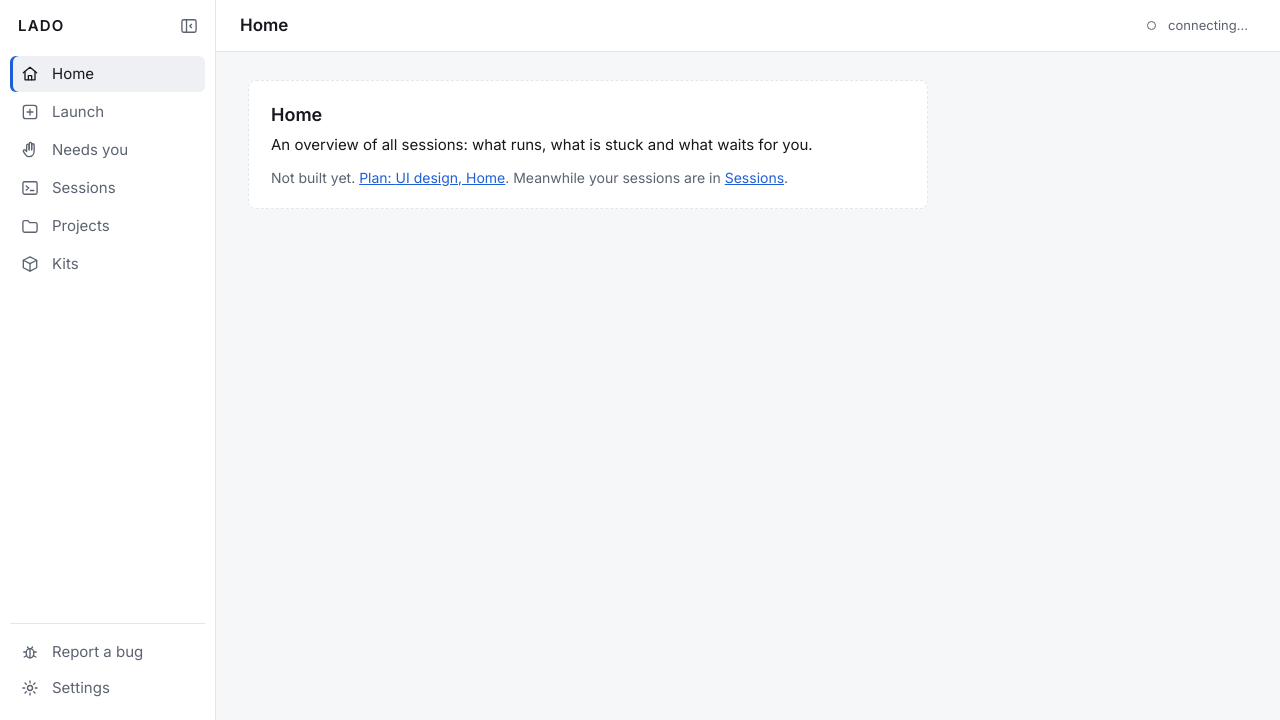
Test: Launch is on the rail and Escape closes its window
Step 1. Click the button "Launch" → (108, 112), box [10,94,205,130]
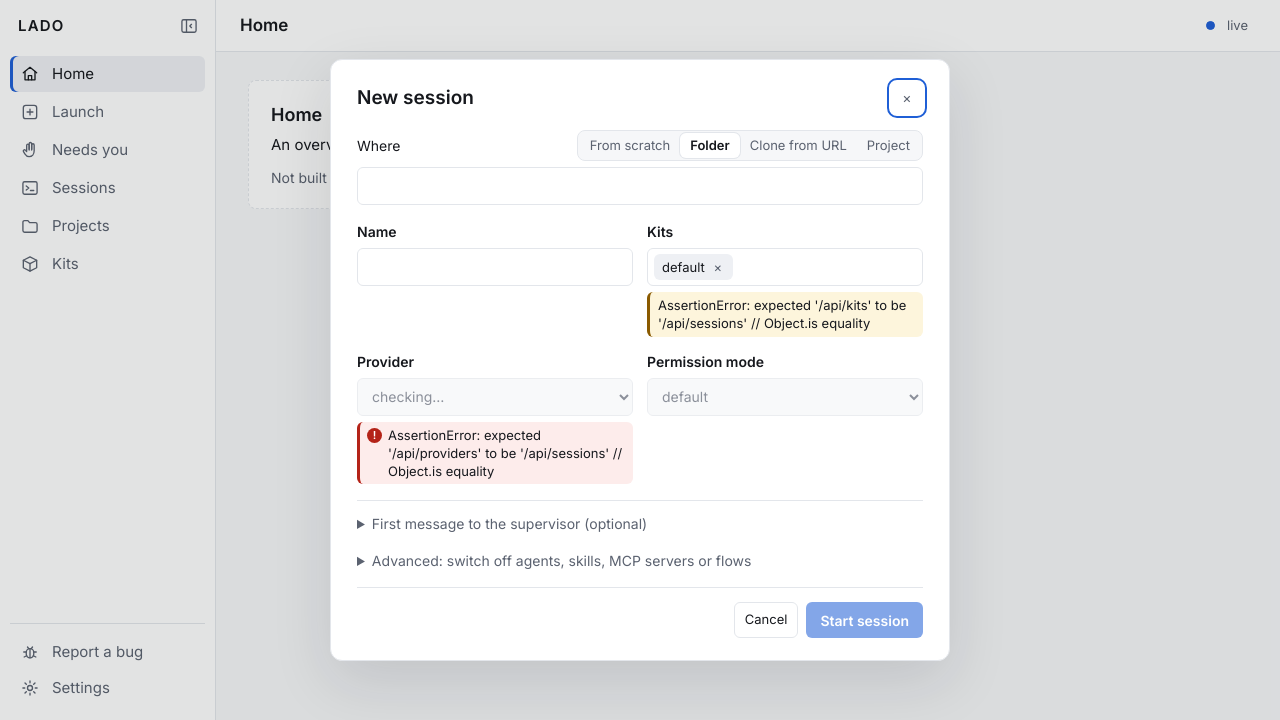
Step 2. Press Escape in the dialog "New session", box [330,59,950,661]
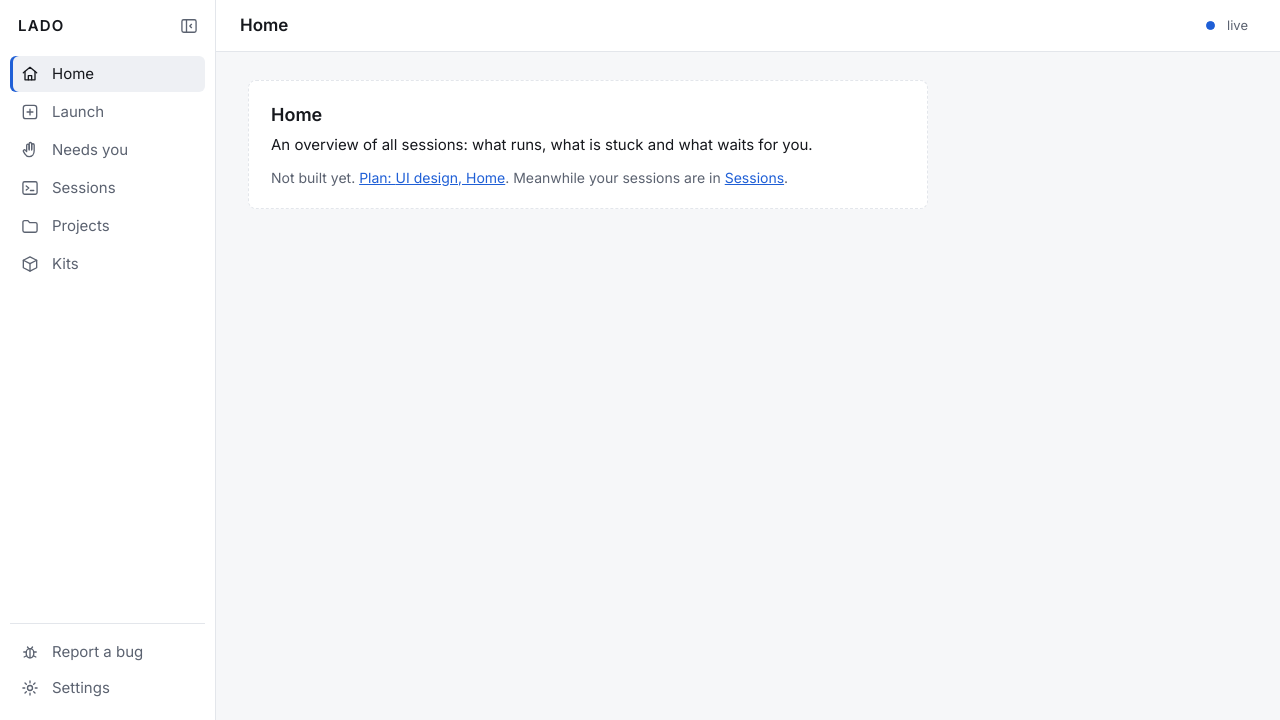
Check: the dialog is gone
